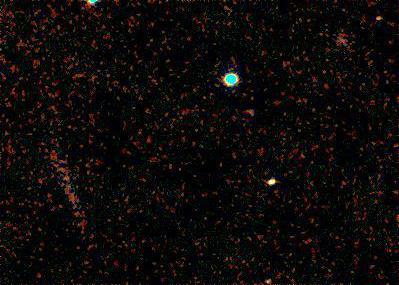star: (256, 165, 286, 195)
